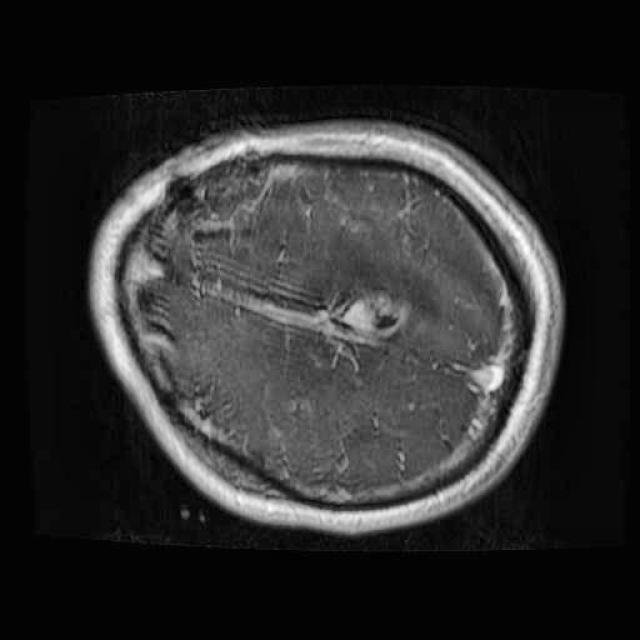Non-Tumor: (335, 284, 415, 348)
